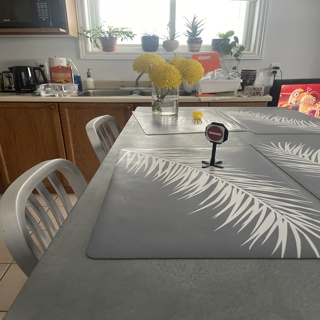sign_noentry: (207, 121, 223, 143)
